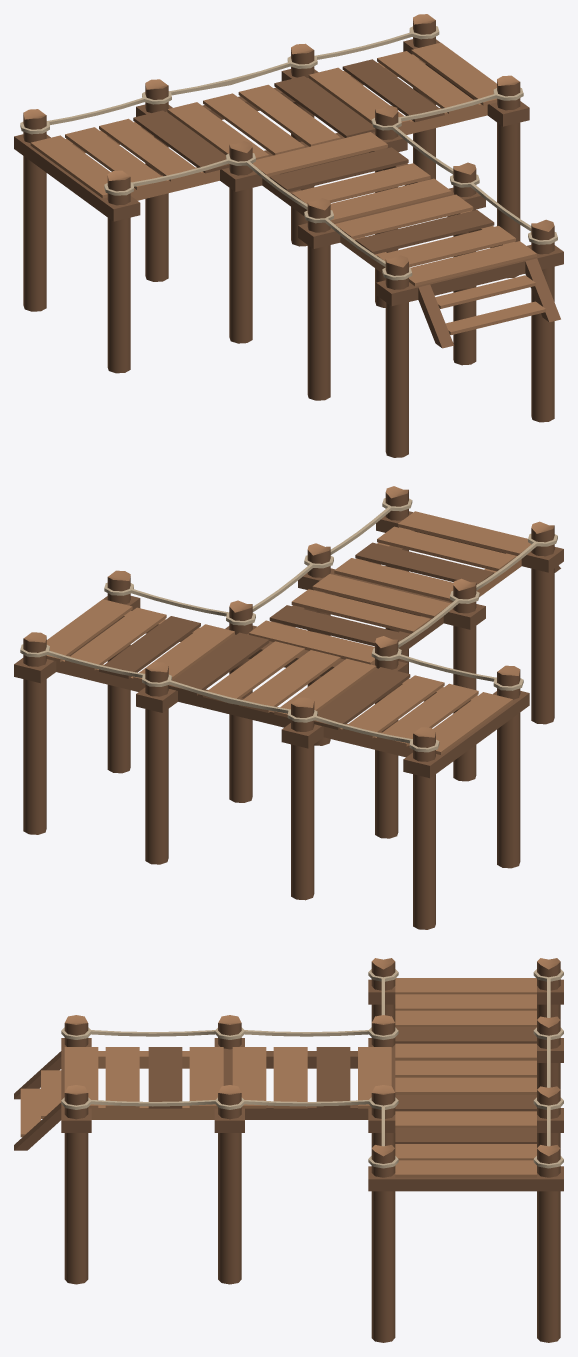
The model's file is Pier_Level_02.fbx.
The picture shows the model from 3 angles, top to bottom: view 1: azimuth 30°, elevation 25°; view 2: azimuth 150°, elevation 25°; view 3: azimuth 270°, elevation 25°; orthographic projection.
Parts seen in each view (by area): view 1: Pier_Level_02; view 2: Pier_Level_02; view 3: Pier_Level_02.
Boxes of the visible parts, box(x1,y1,x2,y2) form: Pier_Level_02: box(14, 14, 563, 457); Pier_Level_02: box(14, 486, 563, 929); Pier_Level_02: box(14, 958, 563, 1342).
Bounding box in the file's own units: 14 × 6.2 × 16.3.
